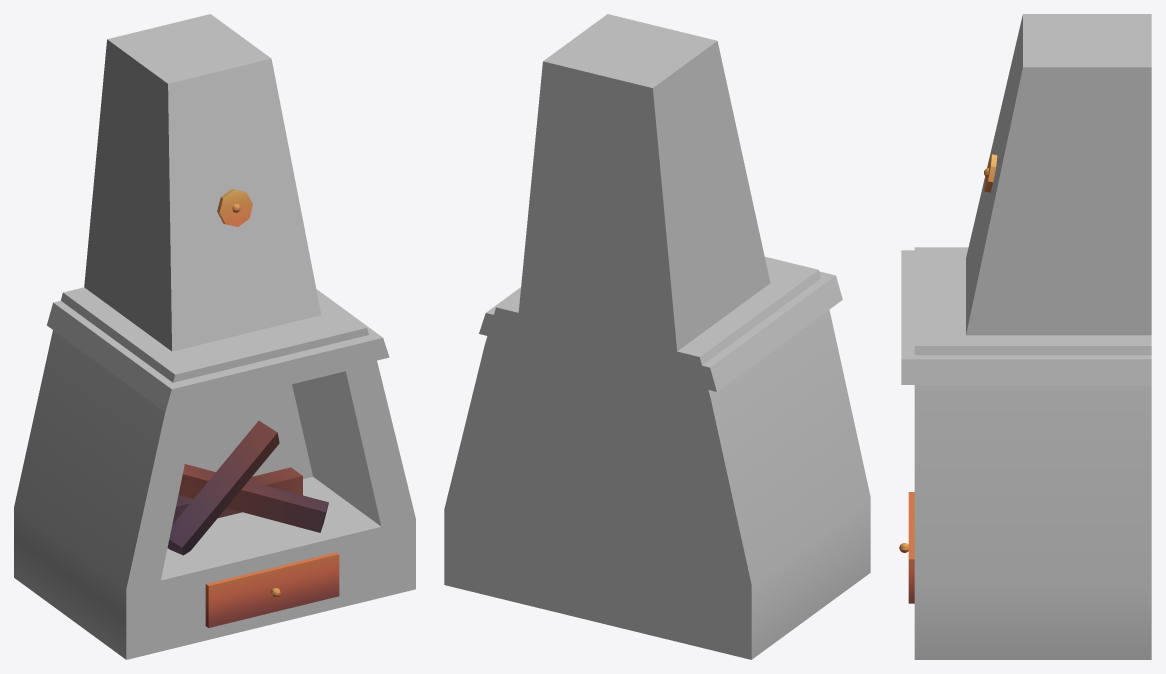
The model's file is firePlace.fbx.
3 views of the same model, side by side, from view 1: azimuth 30°, elevation 25°; view 2: azimuth 150°, elevation 25°; view 3: azimuth 270°, elevation 25° (orthographic). The views are drawn at different scales.
Parts seen in each view (by area): view 1: fireplace; view 2: fireplace; view 3: fireplace.
Part boxes in pixels (<box>): fireplace: <box>14,14,415,659</box>; fireplace: <box>444,14,870,659</box>; fireplace: <box>899,14,1151,659</box>.
Size of the model in its own units: 0.5871 by 1 by 0.4199.
